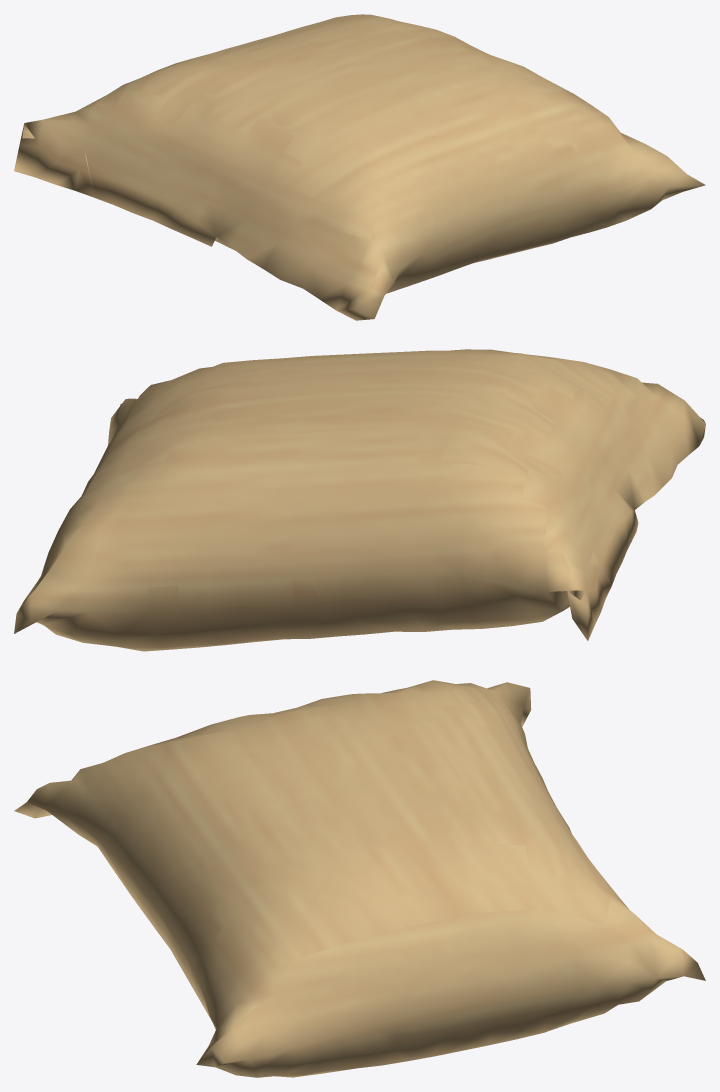
File: cormhole_Red_Beanbag_V5.fbx
The picture shows the model from 3 angles, top to bottom: view 1: azimuth 30°, elevation 25°; view 2: azimuth 150°, elevation 25°; view 3: azimuth 270°, elevation 25°; orthographic projection. The views are drawn at different scales.
Parts seen in each view (by area): view 1: Object_4; view 2: Object_4; view 3: Object_4.
Part boxes in pixels (bbox=[...]): Object_4: bbox=[14, 14, 705, 320]; Object_4: bbox=[14, 349, 705, 651]; Object_4: bbox=[14, 680, 705, 1077].
Bounding box in the file's own units: 22.34 × 7.65 × 22.19.
